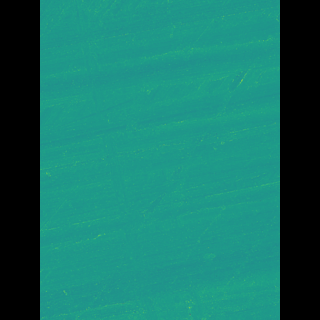Loch: (88, 0, 161, 320), (70, 80, 250, 153)
